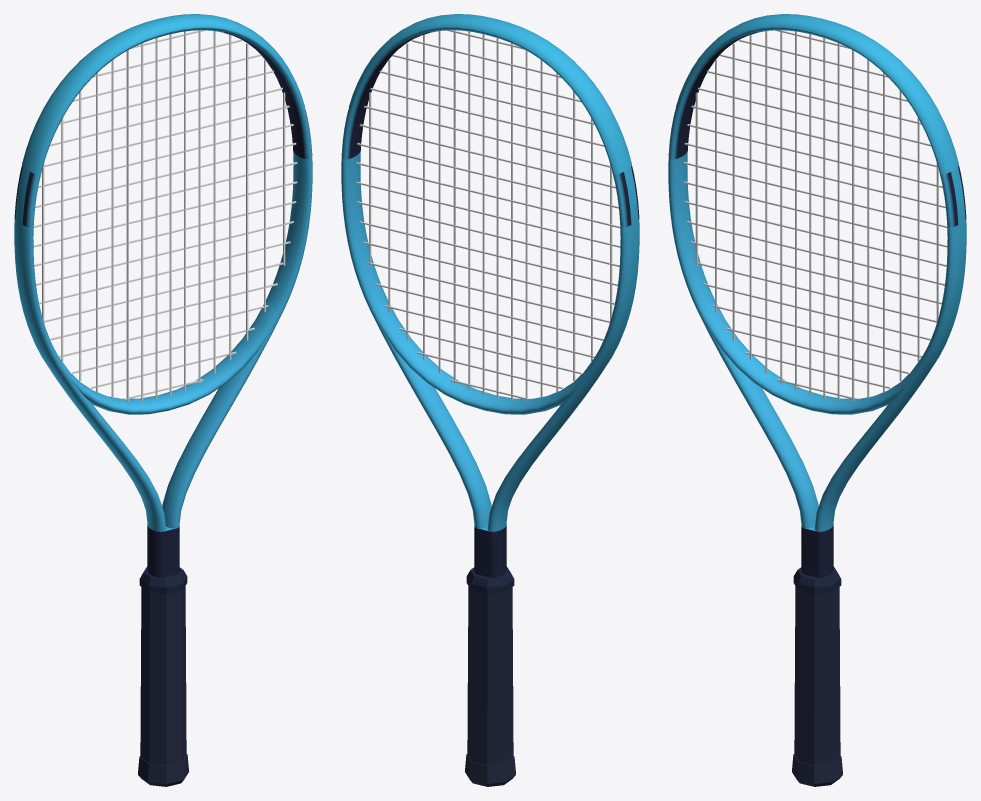
The model's file is head-boom-elite-2026.glb.
3 views of the same model, side by side, from view 1: azimuth 30°, elevation 25°; view 2: azimuth 150°, elevation 25°; view 3: azimuth 330°, elevation 25° (orthographic).
Visible parts, largest first — view 1: frame, strings_mains, strings_crosses, grip, bumper, grommets, butt_cap, collar; view 2: frame, strings_mains, strings_crosses, grip, bumper, grommets, butt_cap, collar; view 3: frame, strings_mains, strings_crosses, grip, bumper, grommets, butt_cap, collar.
Part boxes in pixels (box(x1,y1,x2,y2)): frame: box(14, 27, 312, 577); strings_mains: box(42, 30, 285, 400); strings_crosses: box(33, 30, 297, 400); grip: box(140, 586, 186, 765); bumper: box(22, 14, 304, 174); grommets: box(15, 167, 48, 362); butt_cap: box(138, 754, 188, 786); collar: box(139, 566, 187, 594); frame: box(341, 27, 639, 577); strings_mains: box(369, 30, 612, 400); strings_crosses: box(356, 30, 620, 400); grip: box(467, 586, 513, 765); bumper: box(349, 14, 631, 174); grommets: box(605, 167, 638, 362); butt_cap: box(465, 754, 515, 786); collar: box(466, 566, 514, 594); frame: box(668, 27, 966, 577); strings_mains: box(695, 30, 938, 400); strings_crosses: box(683, 30, 947, 400); grip: box(794, 586, 840, 765); bumper: box(676, 14, 958, 174); grommets: box(932, 167, 965, 362); butt_cap: box(792, 754, 842, 786); collar: box(793, 566, 841, 594).
Bounding box in the file's own units: 0.2781 × 0.6912 × 0.0396.
